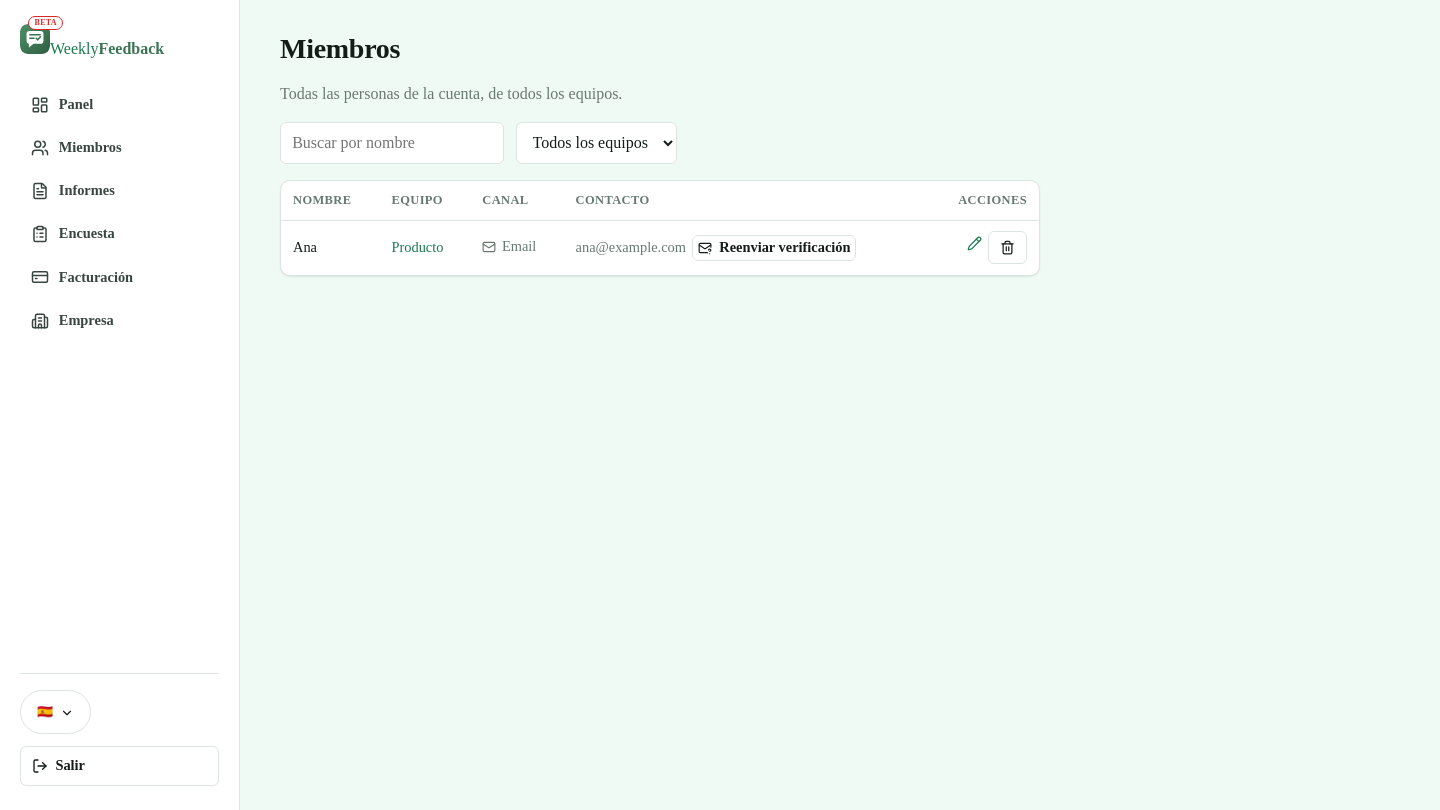
AllMembersPage › sin coincidencias con el filtro: muestra el aviso en vez de una tabla vacía
The image size is (1440, 810).
Expected: the text "Ana" is shown, x1=281 y1=221 x2=380 y2=275
Step 1. Type "zzz" into the field with placeholder "Buscar por nombre" → (392, 143), box x1=280 y1=122 x2=504 y2=164
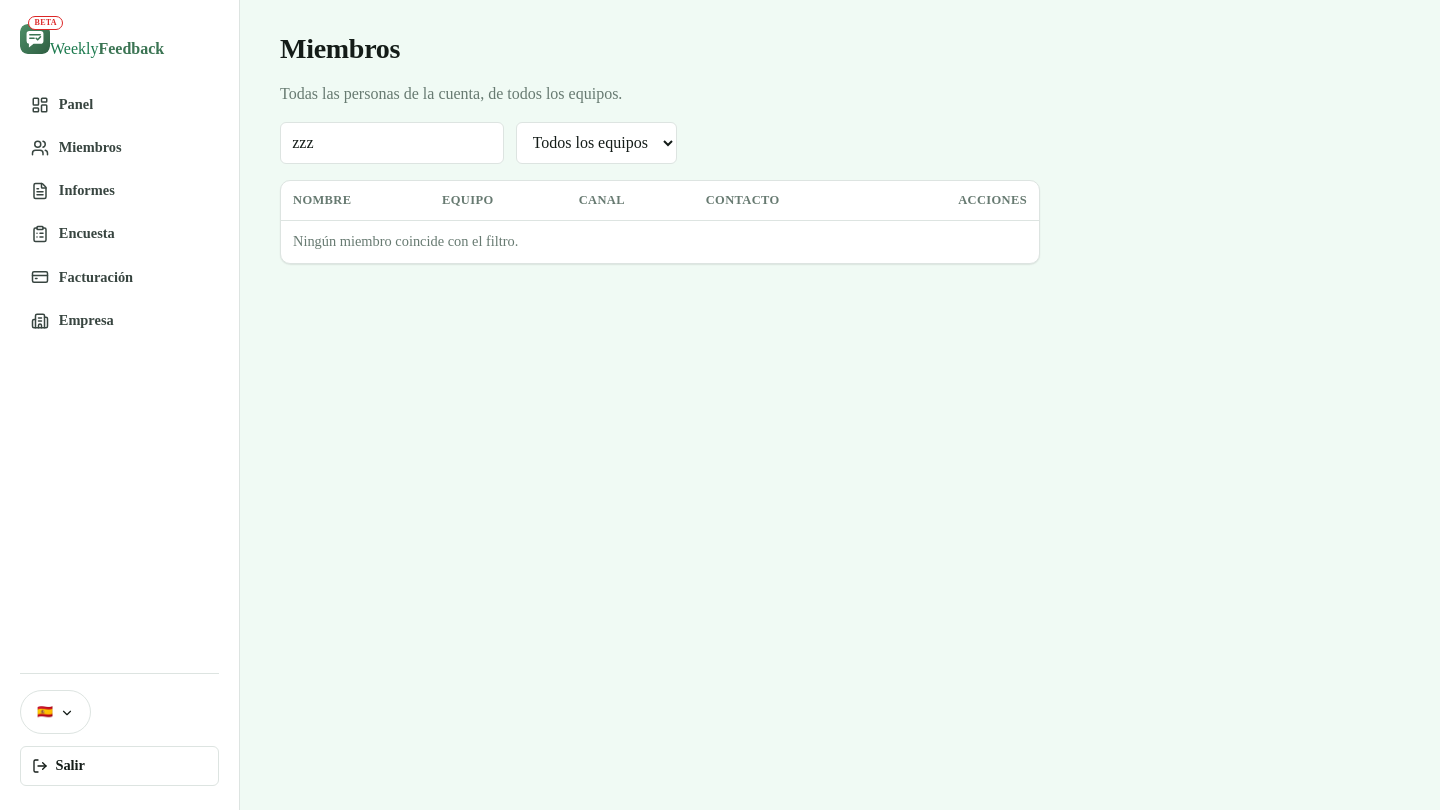
Now the text "Ningún miembro coincide con el filtro." is shown, box x1=281 y1=221 x2=1039 y2=264
